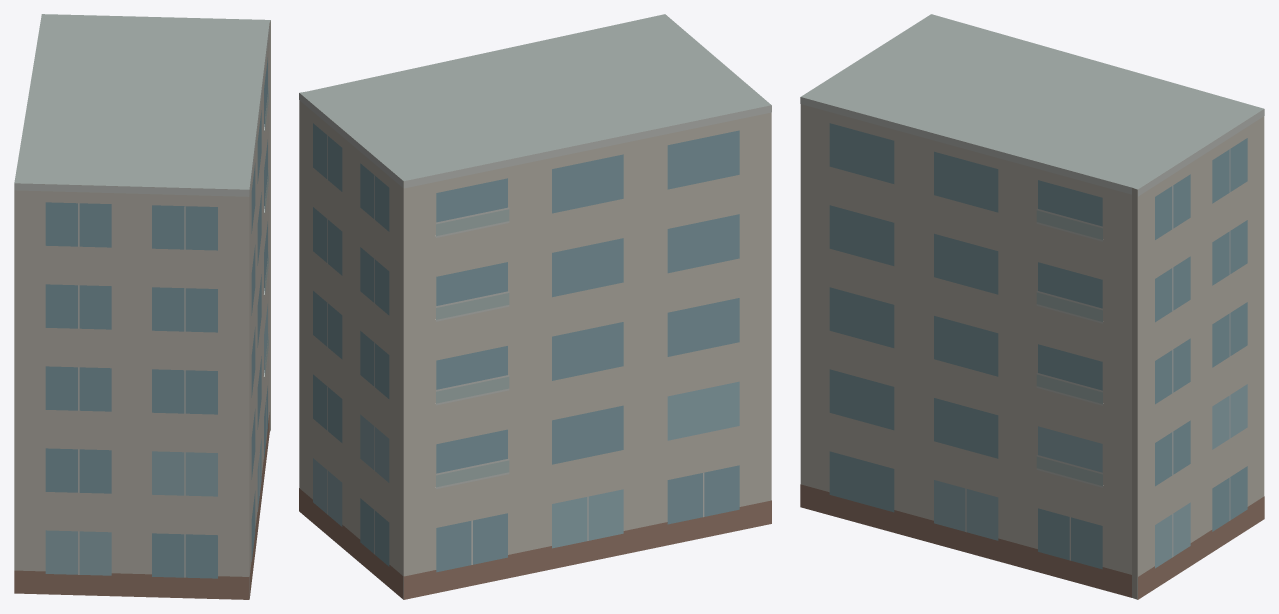
The model's file is survey-upis-32636491.glb.
The picture shows the model from 3 angles, left to right: view 1: azimuth 30°, elevation 25°; view 2: azimuth 150°, elevation 25°; view 3: azimuth 270°, elevation 25°; orthographic projection. The views are drawn at different scales.
Parts seen in each view (by area): view 1: survey-upis-32636491.tmp; view 2: survey-upis-32636491.tmp; view 3: survey-upis-32636491.tmp.
Part boxes in pixels (x1,y1,x2,y2): survey-upis-32636491.tmp: (14, 14, 270, 599); survey-upis-32636491.tmp: (299, 14, 771, 599); survey-upis-32636491.tmp: (800, 14, 1264, 599).
Size of the model in its own units: 12.86 by 14 by 14.36.
